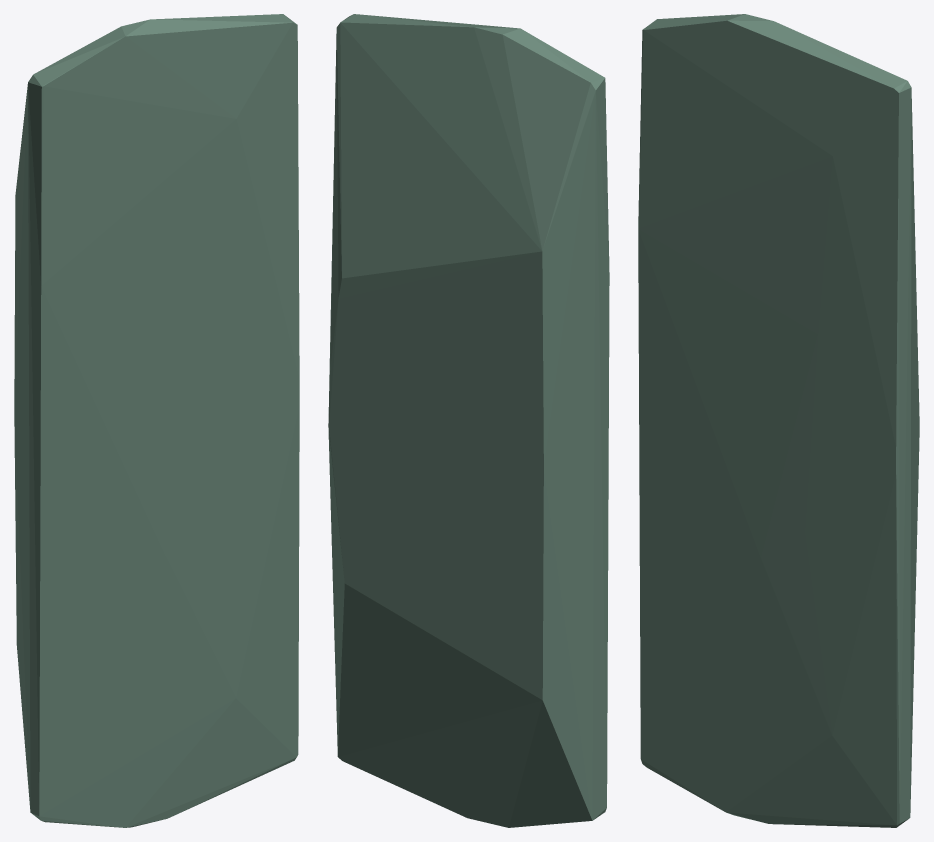
Rendered from brakeSystem_brake_pad_b01.glb.
3 views of the same model, side by side, from view 1: azimuth 30°, elevation 25°; view 2: azimuth 150°, elevation 25°; view 3: azimuth 330°, elevation 25° (orthographic).
Parts seen in each view (by area): view 1: geometry_0; view 2: geometry_0; view 3: geometry_0.
Part boxes in pixels (x1,y1,x2,y2): geometry_0: [14, 14, 299, 827]; geometry_0: [328, 14, 609, 827]; geometry_0: [638, 14, 919, 827].
Size of the model in its own units: 0.1643 by 0.48 by 0.0519.
